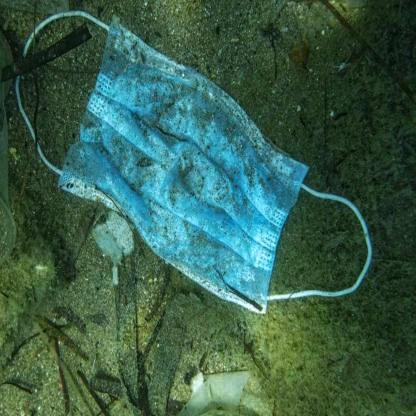Mask: (13, 13, 373, 314)
